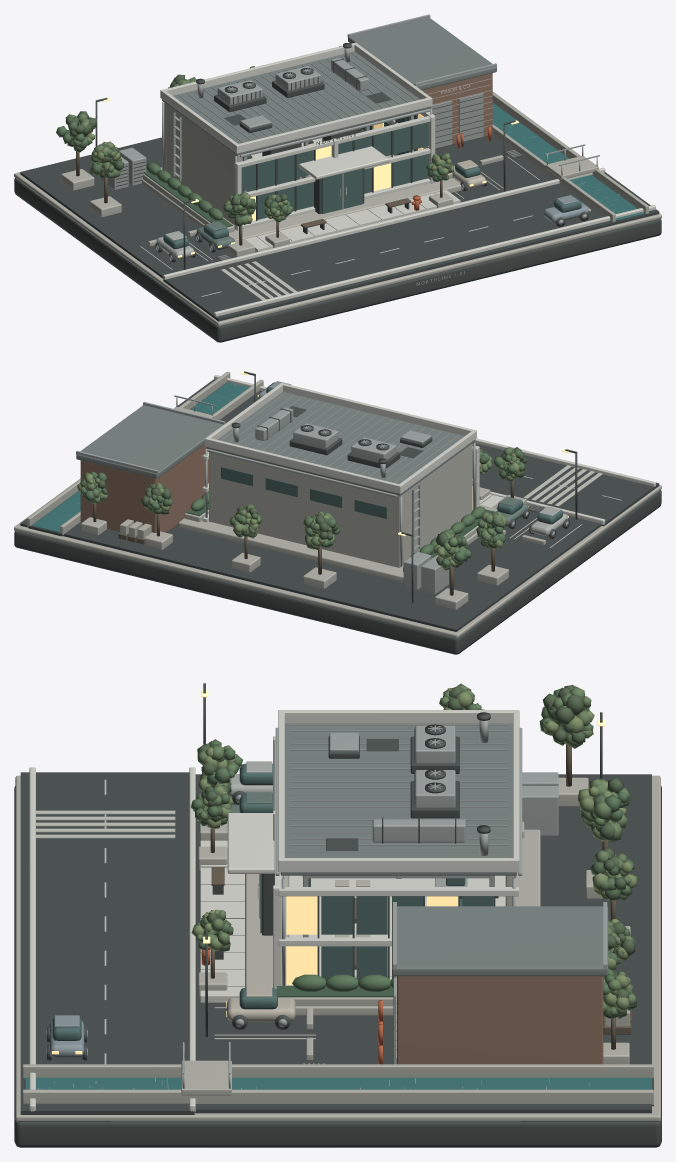
File: northline.glb
The picture shows the model from 3 angles, top to bottom: view 1: azimuth 30°, elevation 25°; view 2: azimuth 150°, elevation 25°; view 3: azimuth 270°, elevation 25°; orthographic projection. The views are drawn at different scales.
Parts seen in each view (by area): view 1: site__Asphalt, site__Warm limestone, site__Powder coated charcoal, roof__Standing seam roof, site__Pale concrete, shell__Smoked architectural glazing, site__Standing seam roof, roof__Pale concrete, shell__Pale concrete, shell__Warm limestone, site__Galvanized steel, roof__Galvanized steel (+15 smaller); view 2: site__Asphalt, shell__Warm limestone, site__Warm limestone, site__Powder coated charcoal, roof__Standing seam roof, site__Standing seam roof, site__Warehouse brick, roof__Pale concrete, roof__Galvanized steel, site__Foliage 0, site__Galvanized steel, site__Foliage 3 (+12 smaller); view 3: site__Asphalt, site__Warm limestone, roof__Standing seam roof, site__Powder coated charcoal, site__Warehouse brick, site__Standing seam roof, roof__Galvanized steel, roof__Pale concrete, site__Pale concrete, shell__Pale concrete, site__Drainage water, shell__Smoked architectural glazing (+18 smaller).
Part boxes in pixels (x1,y1,x2,y2): site__Asphalt: [20, 135, 659, 321]; site__Warm limestone: [14, 78, 661, 326]; site__Powder coated charcoal: [14, 96, 661, 342]; roof__Standing seam roof: [162, 51, 430, 155]; site__Pale concrete: [163, 84, 655, 316]; shell__Smoked architectural glazing: [241, 114, 428, 219]; site__Standing seam roof: [348, 18, 496, 90]; roof__Pale concrete: [160, 42, 432, 153]; shell__Pale concrete: [234, 111, 435, 230]; shell__Warm limestone: [164, 103, 241, 225]; site__Galvanized steel: [101, 14, 624, 285]; roof__Galvanized steel: [178, 48, 416, 142]; site__Asphalt: [20, 379, 659, 631]; shell__Warm limestone: [209, 443, 472, 567]; site__Warm limestone: [14, 371, 661, 638]; site__Powder coated charcoal: [14, 371, 661, 654]; roof__Standing seam roof: [206, 392, 475, 495]; site__Standing seam roof: [76, 405, 223, 478]; site__Warehouse brick: [80, 444, 208, 532]; roof__Pale concrete: [205, 383, 476, 493]; roof__Galvanized steel: [221, 393, 458, 482]; site__Foliage 0: [83, 450, 524, 567]; site__Galvanized steel: [67, 384, 568, 594]; site__Foliage 3: [80, 447, 526, 567]; site__Asphalt: [20, 772, 651, 1114]; site__Warm limestone: [15, 775, 660, 1121]; roof__Standing seam roof: [280, 723, 516, 875]; site__Powder coated charcoal: [14, 683, 661, 1147]; site__Warehouse brick: [397, 976, 603, 1064]; site__Standing seam roof: [392, 906, 608, 976]; roof__Galvanized steel: [289, 720, 508, 857]; roof__Pale concrete: [278, 710, 519, 872]; site__Pale concrete: [29, 767, 244, 1112]; shell__Pale concrete: [227, 736, 518, 987]; site__Drainage water: [24, 1077, 651, 1089]; shell__Smoked architectural glazing: [260, 874, 515, 980].
Size of the model in its own units: 20 by 5.29 by 16.01.
